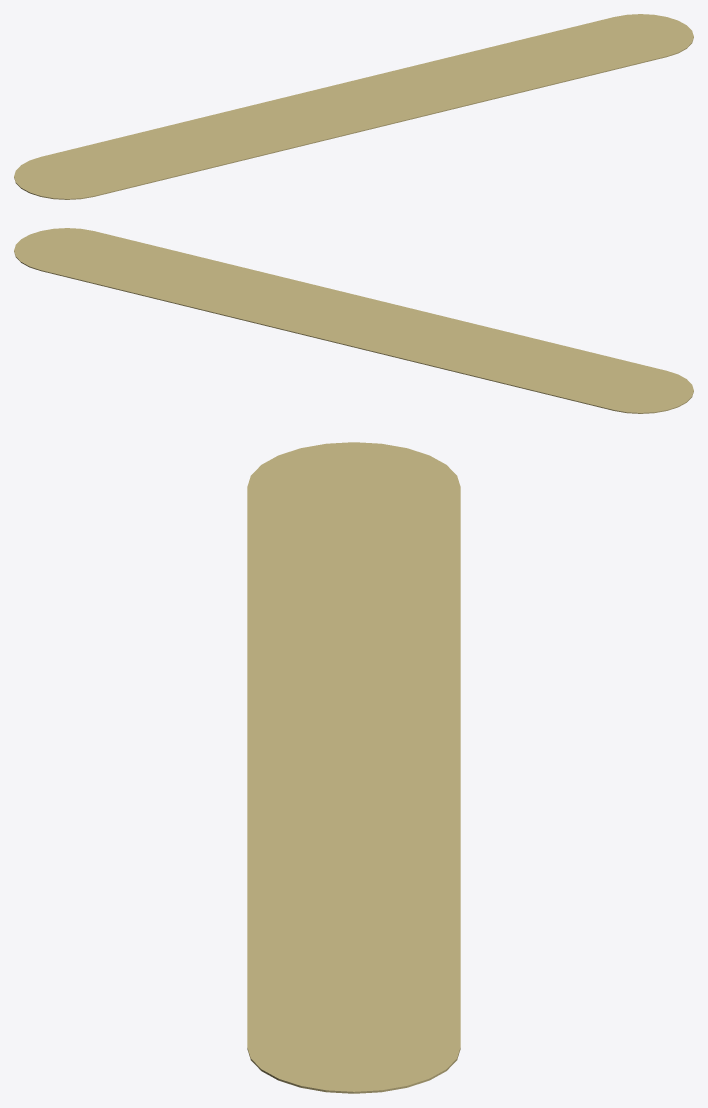
Rendered from path_strip.glb.
3 views of the same model, one above another, from view 1: azimuth 30°, elevation 25°; view 2: azimuth 150°, elevation 25°; view 3: azimuth 270°, elevation 25° (orthographic). The views are drawn at different scales.
Parts seen in each view (by area): view 1: path_strip_mesh; view 2: path_strip_mesh; view 3: path_strip_mesh.
Part boxes in pixels (x1=…): path_strip_mesh: x1=14, y1=14, x2=693, y2=199; path_strip_mesh: x1=14, y1=228, x2=693, y2=413; path_strip_mesh: x1=247, y1=442, x2=460, y2=1093.
Size of the model in its own units: 18 by 0.025 by 2.5.
